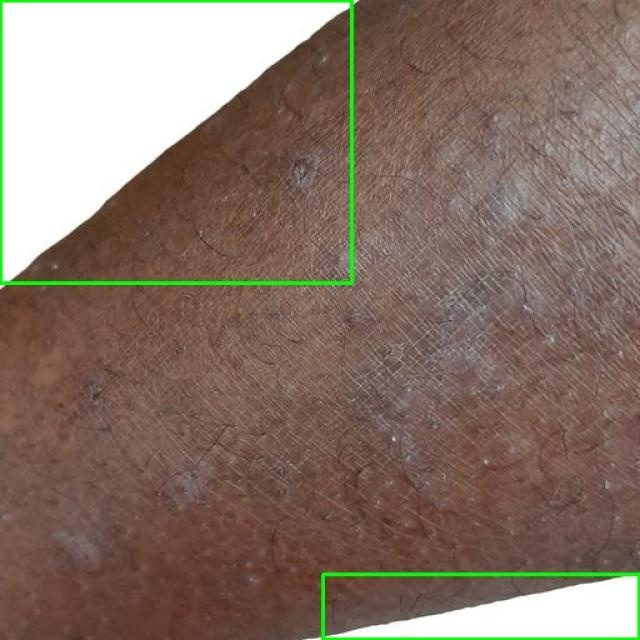Scabies: (0, 0, 352, 284), (322, 574, 639, 639)
